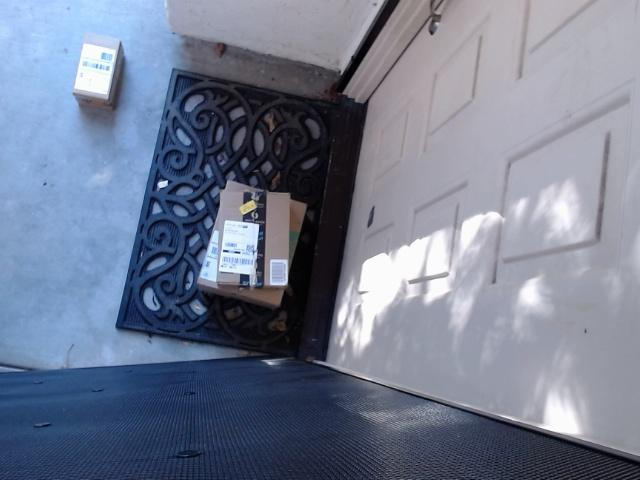box: (196, 161, 315, 321), (37, 0, 126, 129), (211, 182, 295, 288)
